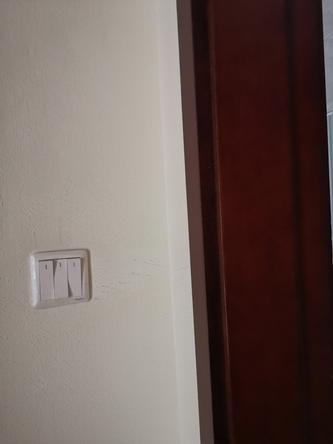switch: (49, 255, 73, 303), (36, 256, 58, 303), (64, 254, 86, 299)
